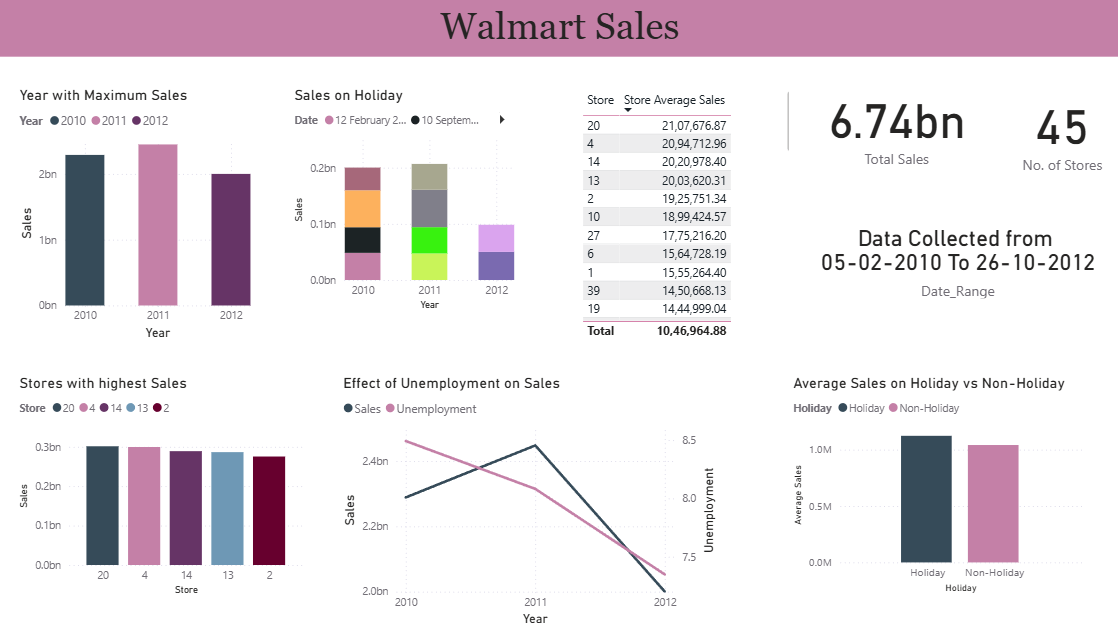

The dashboard page shown, as its layout file describes it:
{"tool":"powerbi","page":{"name":"Page 1","canvas":[1280,720],"ordinal":0},"visuals":[{"type":"textbox","box":[0,0,1280,65],"z":0},{"type":"columnChart","title":"Year with Maximum Sales","fields":{"Category":["Walmart_Sales.Date.Variation.Date Hierarchy.Year","Walmart_Sales.Date.Variation.Date Hierarchy.Month"],"Y":["Sum(Walmart_Sales.Weekly_Sales)"],"Series":["Walmart_Sales.Date.Variation.Date Hierarchy.Year"]},"box":[17.1,98.6,274.3,294.3],"z":1000},{"type":"columnChart","title":"Stores with highest Sales","fields":{"Category":["Walmart_Sales.Store"],"Y":["Sum(Walmart_Sales.Weekly_Sales)"],"Series":["Walmart_Sales.Store"]},"box":[17.1,427.1,334.3,258.6],"z":2000},{"type":"columnChart","title":"Sales on Holiday","fields":{"Category":["Walmart_Sales.Date.Variation.Date Hierarchy.Year","Walmart_Sales.Date.Variation.Date Hierarchy.Month"],"Y":["Sum(Walmart_Sales.Weekly_Sales)"],"Series":["Walmart_Sales.Date"]},"box":[331.4,98.6,261.4,261.4],"z":3000},{"type":"lineChart","title":"Effect of Unemployment on Sales","fields":{"Y":["Sum(Walmart_Sales.Weekly_Sales)"],"Y2":["Avg(Walmart_Sales.Unemployment)"],"Category":["Walmart_Sales.Date.Variation.Date Hierarchy.Year","Walmart_Sales.Date.Variation.Date Hierarchy.Month"]},"box":[387.1,427.1,435.7,292.9],"z":4000},{"type":"columnChart","title":"Average Sales on Holiday vs Non-Holiday","fields":{"Category":["Walmart_Sales.Holiday"],"Y":["Avg(Walmart_Sales.Weekly_Sales)"],"Series":["Walmart_Sales.Holiday"]},"box":[901.4,427.1,340,255.7],"z":5000},{"type":"card","fields":{"Values":["Count(Walmart_Sales.Store)"]},"box":[1148.6,98.6,131.4,101.4],"z":6000},{"type":"card","fields":{"Values":["Walmart_Sales.Date_Range"]},"box":[922.9,245.7,344.3,100],"z":7000},{"type":"tableEx","fields":{"Values":["Walmart_Sales.Store","Walmart_Sales.Store Average Sales"]},"box":[660,98.6,252.9,294.3],"z":8000},{"type":"card","fields":{"Values":["Sum(Walmart_Sales.Weekly_Sales)"]},"box":[901.4,65.7,247.1,154.3],"z":9000}]}

Visuals, with their boxes in screenshot pixels (x1, y1, x2, y2), scaled from the page's 1280x720 canvas onto the 1118x625 screenshot:
textbox: <bbox>0, 0, 1117, 56</bbox>
"Year with Maximum Sales" columnChart: <bbox>15, 86, 255, 341</bbox>
"Stores with highest Sales" columnChart: <bbox>15, 371, 307, 595</bbox>
"Sales on Holiday" columnChart: <bbox>289, 86, 518, 312</bbox>
"Effect of Unemployment on Sales" lineChart: <bbox>338, 371, 719, 624</bbox>
"Average Sales on Holiday vs Non-Holiday" columnChart: <bbox>787, 371, 1084, 593</bbox>
card - Count(Walmart_Sales.Store): <bbox>1003, 86, 1117, 174</bbox>
card - Walmart_Sales.Date_Range: <bbox>806, 213, 1107, 300</bbox>
tableEx - Walmart_Sales.Store x Walmart_Sales.Store Average Sales: <bbox>576, 86, 797, 341</bbox>
card - Sum(Walmart_Sales.Weekly_Sales): <bbox>787, 57, 1003, 191</bbox>
